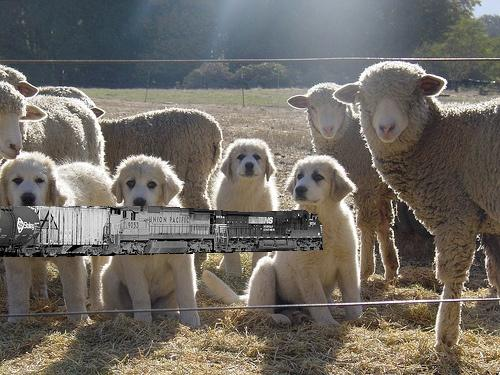tampered: (1, 207, 323, 257)
